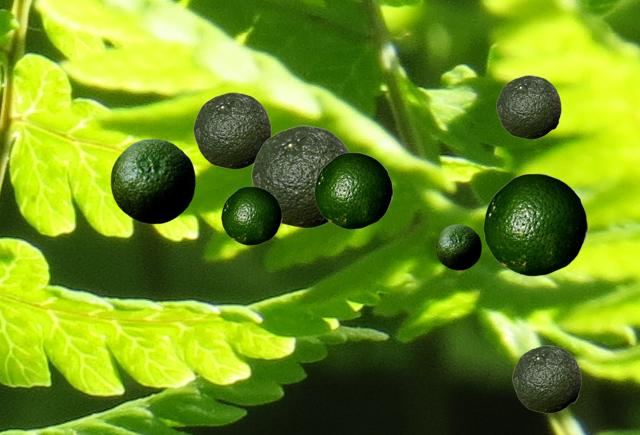calamansi: (483, 173, 587, 275), (251, 125, 349, 227), (110, 138, 194, 223), (314, 152, 392, 228), (193, 92, 270, 168), (512, 345, 580, 412), (496, 75, 560, 138), (221, 186, 281, 244), (435, 224, 480, 269)
